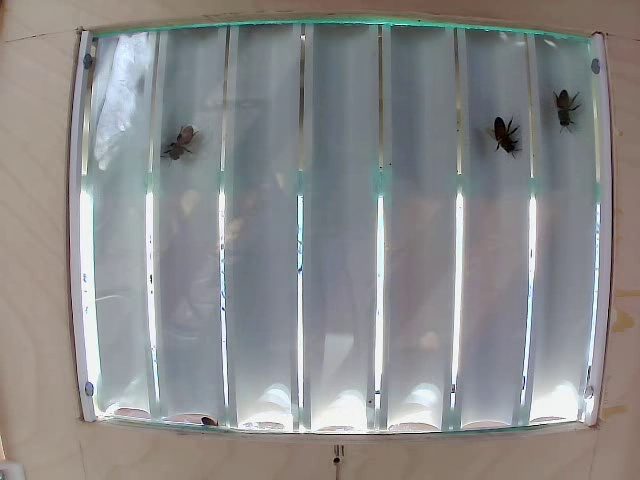bee: (158, 118, 206, 174), (545, 87, 575, 141), (485, 115, 514, 170)
